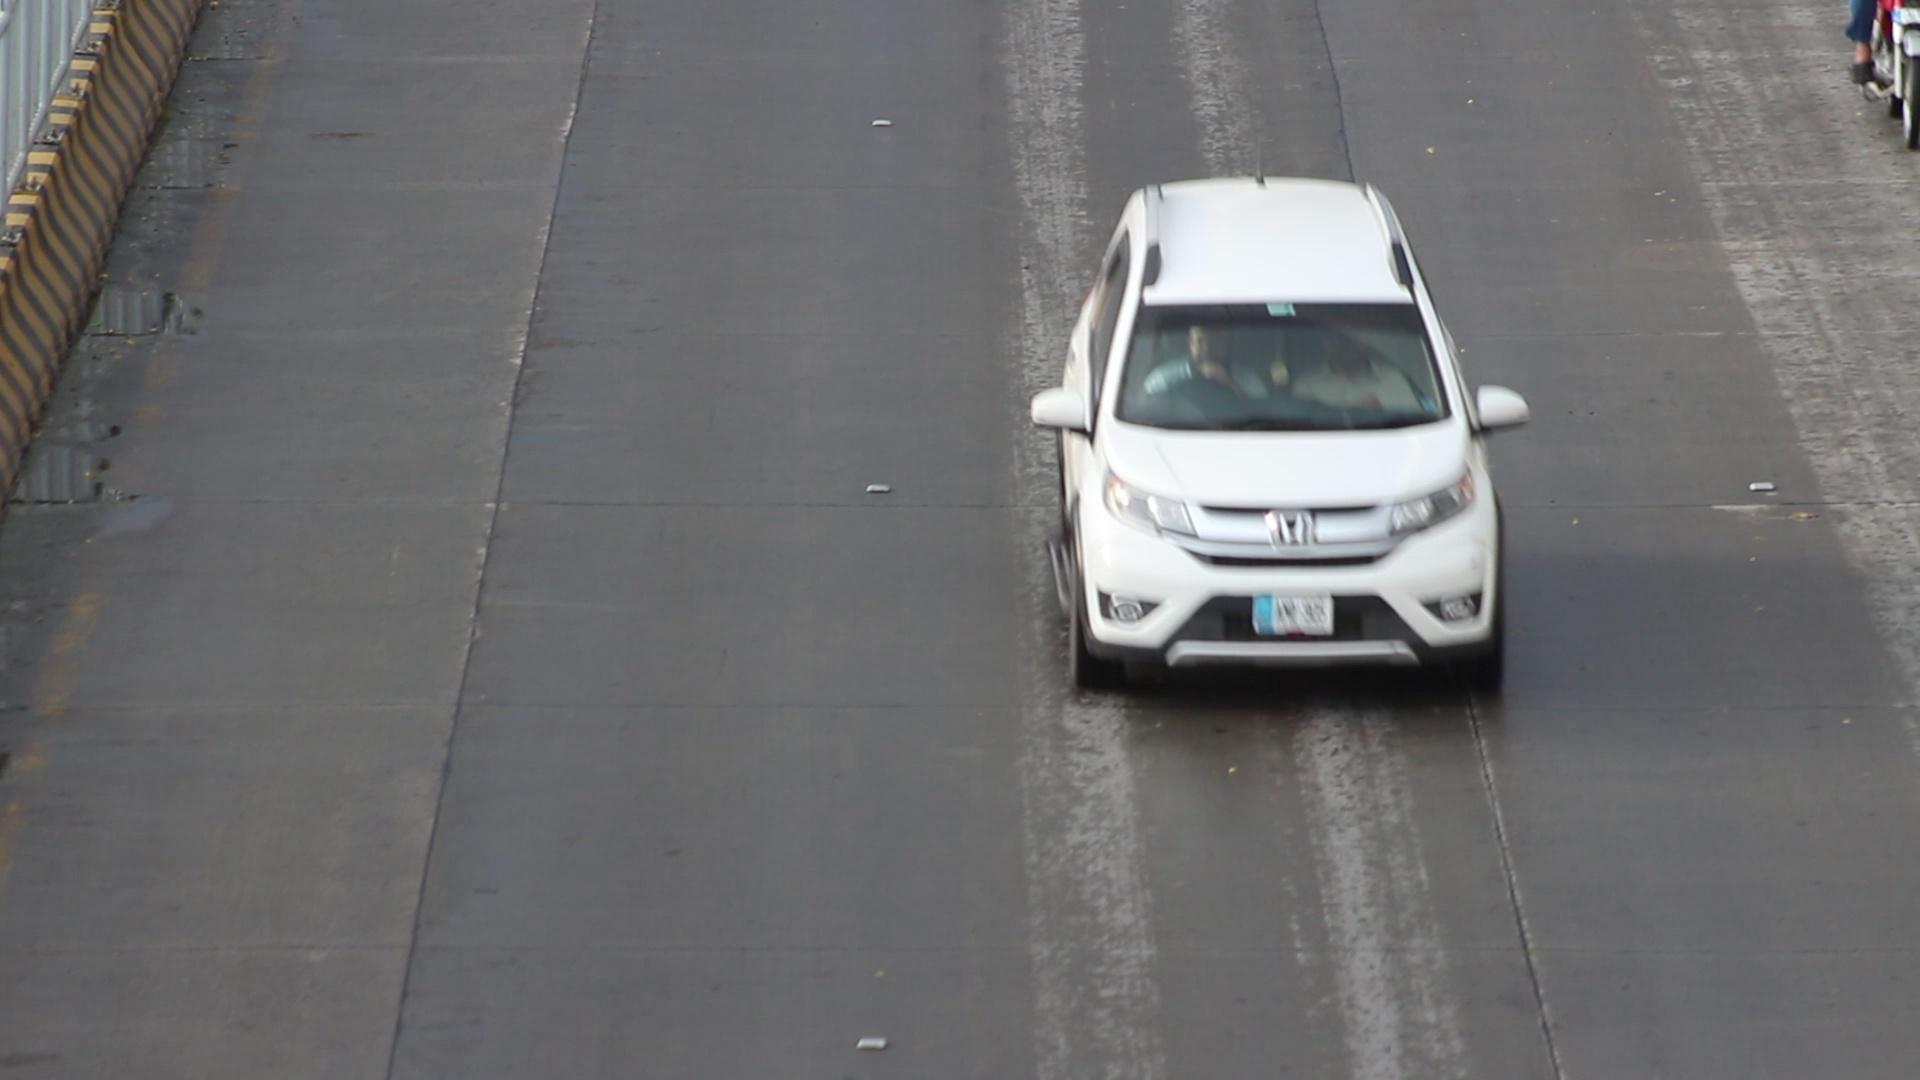windshield: (1104, 286, 1468, 443)
